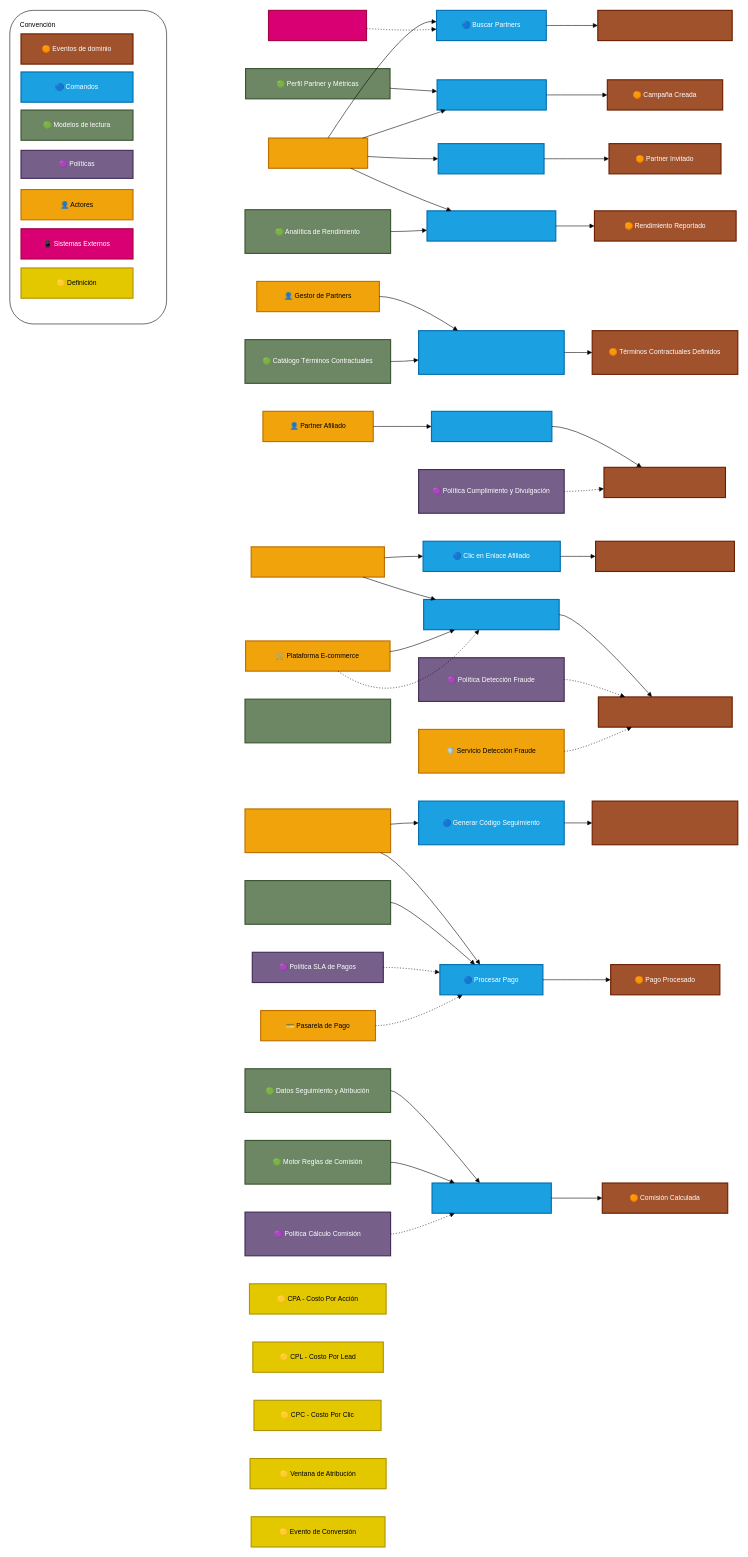
This 748x1557 diagram has some shape labels left out. The box of each missing label's shape, as (x1, y1, x2, y2) in pixels:
👤 Administrador del Sistema: (244, 808, 391, 853)
👤 Cliente/Usuario Final: (250, 546, 385, 577)
👤 Marca/Brand: (268, 137, 368, 169)
📱 CRM Externo: (268, 10, 367, 41)
🔵 Aceptar Invitación: (431, 410, 552, 442)
🔵 Calcular Comisión: (431, 1182, 552, 1214)
🔵 Completar Conversión: (423, 599, 559, 630)
🔵 Crear Campaña: (436, 79, 547, 110)
🔵 Definir Términos Contractuales: (418, 330, 564, 375)
🔵 Invitar Partner: (437, 143, 544, 174)
🔵 Revisar Rendimiento: (426, 210, 556, 241)
🟠 Conversión Rastreada: (598, 696, 732, 727)
🟠 Código Seguimiento Generado: (591, 800, 738, 845)
🟠 Enlace Afiliado Clicado: (595, 540, 735, 572)
🟠 Partner Registrado: (603, 466, 726, 498)
🟠 Partners Descubiertos: (597, 10, 732, 41)
🟢 Calendario y Estado de Pagos: (244, 880, 391, 925)
🟢 Configuración de Campaña: (244, 698, 391, 743)
